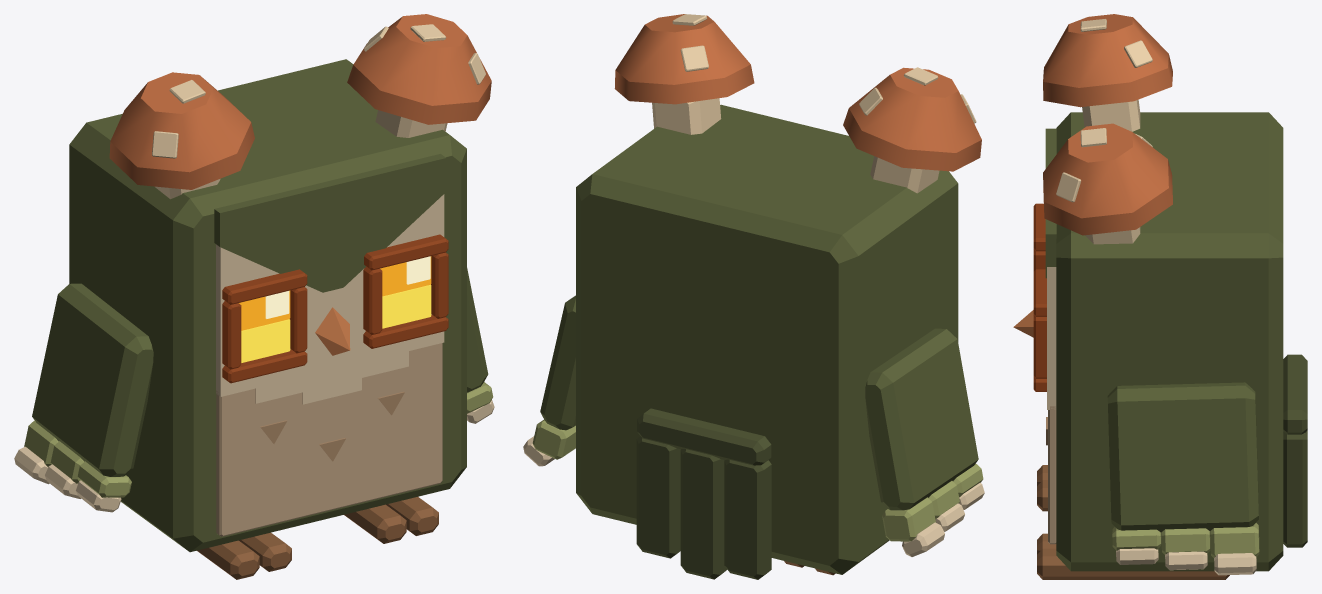
Rendered from hootmoss.glb.
The picture shows the model from 3 angles, left to right: view 1: azimuth 30°, elevation 25°; view 2: azimuth 150°, elevation 25°; view 3: azimuth 270°, elevation 25°; orthographic projection. The views are drawn at different scales.
Parts seen in each view (by area): view 1: Body_Block, Face_Belly, Face_BrowWedge, Wing_R_Main, Face_Disc, Mushroom_R_CapTop, Mushroom_L_CapTop, Mushroom_L_CapRim, Mushroom_R_CapRim, Eye_L_Lower, Eye_R_Lower, Eye_R_FrameTop (+24 smaller); view 2: Body_Block, Tail, Wing_R_Main, Mushroom_R_CapTop, Mushroom_L_CapTop, Tail_Base, Wing_L_Main, Mushroom_L_CapRim, Mushroom_R_CapRim, Mushroom_L_Stem, Wing_R_Feather_3_Green, Mushroom_R_Stem (+4 smaller); view 3: Body_Block, Wing_L_Main, Mushroom_L_CapTop, Mushroom_R_CapTop, Tail, Mushroom_R_CapRim, Mushroom_L_CapRim, Foot_L_ToeOuter, Tail_Base, Face_Disc, Mushroom_R_Stem, Wing_L_Feather_3_Green (+14 smaller).
Part boxes in pixels (box(x1,y1,x2,y2)): Body_Block: box(69, 59, 466, 552); Face_Belly: box(216, 343, 442, 536); Face_BrowWedge: box(214, 154, 446, 292); Wing_R_Main: box(32, 283, 153, 476); Face_Disc: box(216, 194, 444, 404); Mushroom_R_CapTop: box(110, 72, 250, 172); Mushroom_L_CapTop: box(353, 14, 491, 105); Mushroom_L_CapRim: box(347, 65, 491, 124); Mushroom_R_CapRim: box(109, 122, 254, 189); Eye_L_Lower: box(382, 284, 431, 328); Eye_R_Lower: box(241, 319, 290, 362); Eye_R_FrameTop: box(222, 269, 307, 304); Body_Block: box(576, 108, 958, 574); Tail: box(636, 436, 771, 579); Wing_R_Main: box(865, 328, 978, 510); Mushroom_R_CapTop: box(849, 67, 981, 152); Mushroom_L_CapTop: box(615, 14, 750, 84); Tail_Base: box(637, 408, 771, 465); Wing_L_Main: box(540, 295, 575, 430); Mushroom_L_CapRim: box(614, 64, 754, 104); Mushroom_R_CapRim: box(843, 108, 981, 171); Mushroom_L_Stem: box(652, 98, 721, 134); Wing_R_Feather_3_Green: box(882, 497, 935, 541); Mushroom_R_Stem: box(870, 156, 939, 193); Body_Block: box(1056, 112, 1283, 571); Wing_L_Main: box(1107, 382, 1258, 532); Mushroom_L_CapTop: box(1043, 123, 1168, 218); Mushroom_R_CapTop: box(1043, 14, 1168, 87); Tail: box(1283, 430, 1307, 547); Mushroom_R_CapRim: box(1043, 55, 1172, 107); Mushroom_L_CapRim: box(1043, 160, 1172, 235); Foot_L_ToeOuter: box(1037, 548, 1229, 579); Tail_Base: box(1283, 354, 1307, 434); Face_Disc: box(1047, 267, 1056, 409); Mushroom_R_Stem: box(1082, 99, 1140, 131); Wing_L_Feather_3_Green: box(1210, 523, 1259, 557).
Size of the model in its own units: 0.5013 by 0.545 by 0.3178.
